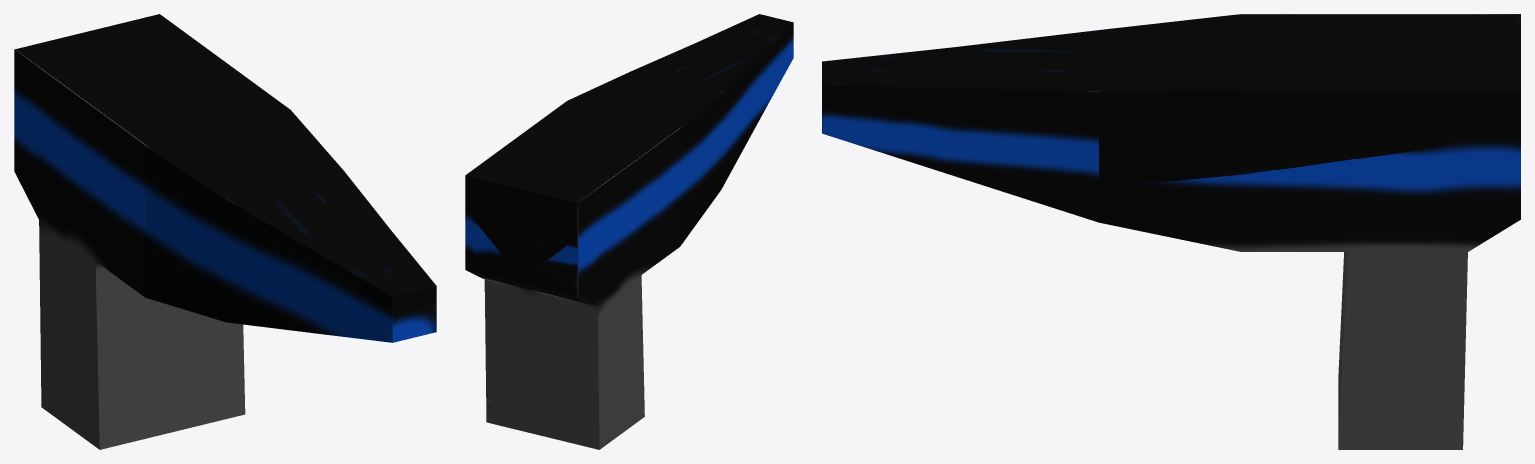
The model's file is grapplingGun.glb.
3 views of the same model, side by side, from view 1: azimuth 30°, elevation 25°; view 2: azimuth 150°, elevation 25°; view 3: azimuth 270°, elevation 25° (orthographic). The views are drawn at different scales.
Parts seen in each view (by area): view 1: Cube; view 2: Cube; view 3: Cube.
Part boxes in pixels (bbox=[...]): Cube: bbox=[14, 14, 436, 449]; Cube: bbox=[465, 14, 793, 449]; Cube: bbox=[822, 14, 1520, 449].
Size of the model in its own units: 0.316 by 0.7013 by 1.23.
Materials: 1 (1 with a texture image).
